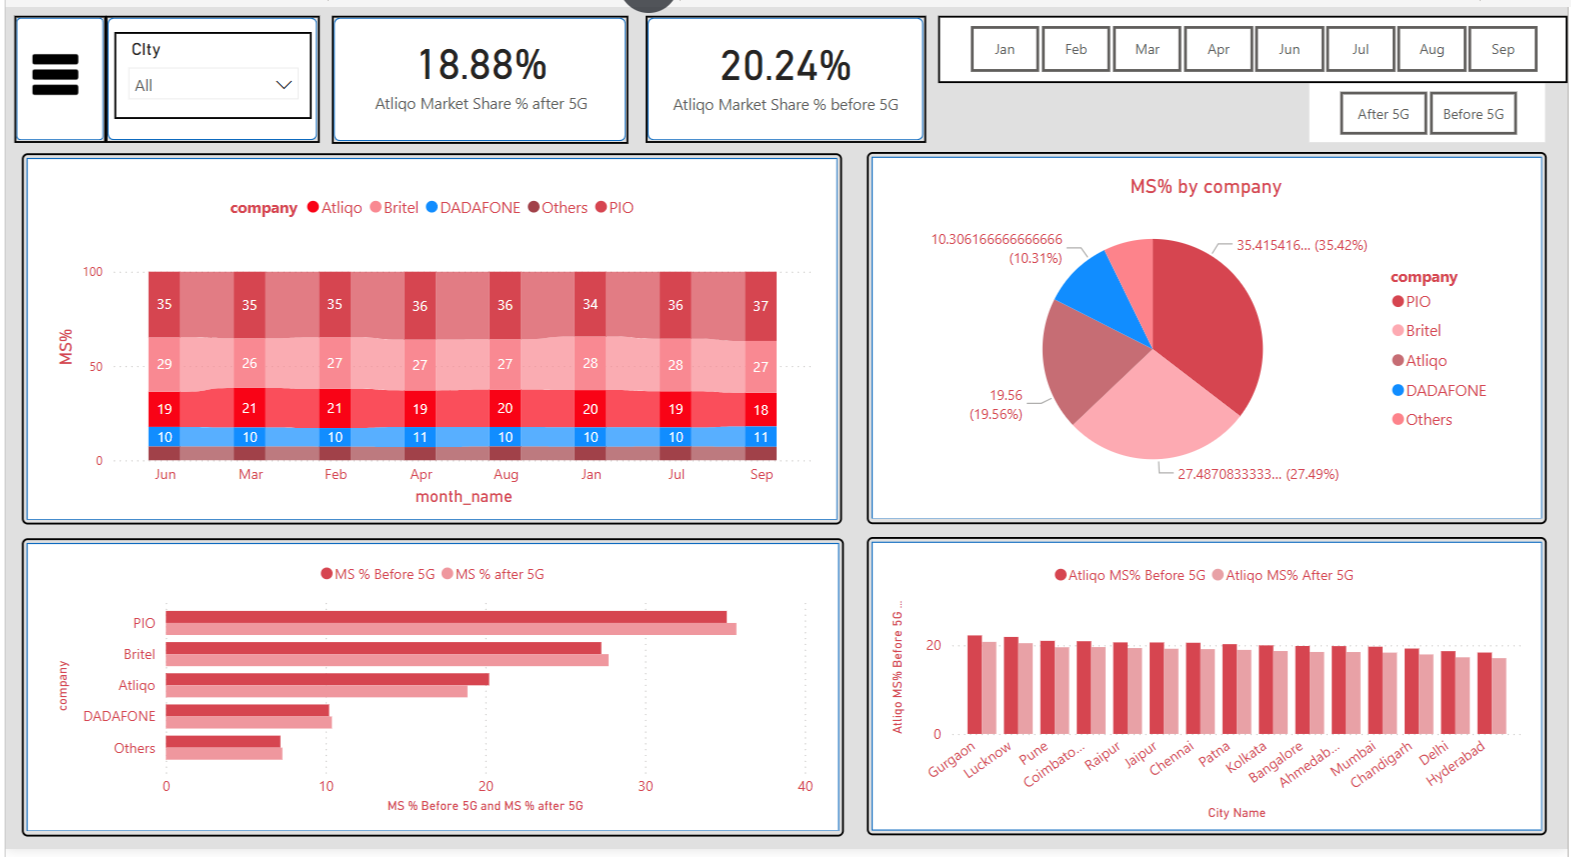

Layout of this report page (visuals, bound fields, positions):
{"tool":"powerbi","page":{"name":"MS %","canvas":[1336,720],"ordinal":2},"visuals":[{"type":"shape","box":[547.1,7.1,240,109],"z":0},{"type":"shape","box":[279.6,7.1,253.9,109.8],"z":1000},{"type":"shape","box":[85.9,7.2,183.3,108.8],"z":2000},{"type":"shape","box":[736.3,453.7,581.8,255.2],"z":3000},{"type":"shape","box":[14.3,454,703.2,254.9],"z":4000},{"type":"shape","box":[736.3,124.4,581.8,318.4],"z":5000},{"type":"shape","box":[14.3,124.6,701.8,318],"z":6000},{"type":"ribbonChart","fields":{"Y":["Key Measures.MS%"],"Series":["fact_market_share.company"],"Category":["Dim_date.month_name"]},"box":[38.7,150.4,657.4,280.7],"z":7000},{"type":"pieChart","fields":{"Y":["Key Measures.MS%"],"Category":["fact_market_share.company"]},"box":[773.3,143.6,507.7,279.9],"z":8000},{"type":"clusteredBarChart","fields":{"Category":["fact_market_share.company"],"Y":["Key Measures.MS % Before 5G","Key Measures.MS % after 5G"]},"box":[38.7,465.5,657.4,229.2],"z":9000},{"type":"clusteredColumnChart","fields":{"Y":["Key Measures.Atliqo MS% Before 5G","Key Measures.Atliqo MS% After 5G"],"Category":["City_Name.City Name"]},"box":[752.7,466.1,548.9,234.7],"z":10000},{"type":"card","fields":{"Values":["Key Measures.Atliqo Market Share % before 5G"]},"box":[562.2,8.5,209.9,93.3],"z":11000},{"type":"card","fields":{"Values":["Key Measures.Atliqo Market Share % after 5G"]},"box":[294.6,15.3,223.7,79.6],"z":12000},{"type":"slicer","fields":{"Values":["City_Name.City Name"]},"box":[93.1,21.5,169,74.5],"z":13000},{"type":"slicer","fields":{"Values":["Dim_date.before/after_5g"]},"box":[1115.2,64.7,201.7,50.8],"z":14000},{"type":"shape","box":[7.2,7.2,78.8,109],"z":15000},{"type":"image","box":[18.6,24.4,48.7,65.9],"z":16000},{"type":"slicer","fields":{"Values":["Dim_date.month_name"]},"box":[797.8,7.2,538.5,57.3],"z":17000}]}

Visuals, with their boxes in screenshot pixels (x1, y1, x2, y2), scaled from the page's 1336x720 canvas onto the 1571x857 screenshot:
shape: <bbox>643, 8, 926, 138</bbox>
shape: <bbox>329, 8, 627, 139</bbox>
shape: <bbox>101, 9, 317, 138</bbox>
shape: <bbox>866, 540, 1550, 844</bbox>
shape: <bbox>17, 540, 844, 844</bbox>
shape: <bbox>866, 148, 1550, 527</bbox>
shape: <bbox>17, 148, 842, 527</bbox>
ribbonChart - Key Measures.MS% x fact_market_share.company: <bbox>46, 179, 819, 513</bbox>
pieChart - Key Measures.MS% x fact_market_share.company: <bbox>909, 171, 1506, 504</bbox>
clusteredBarChart - fact_market_share.company x Key Measures.MS % Before 5G: <bbox>46, 554, 819, 827</bbox>
clusteredColumnChart - Key Measures.Atliqo MS% Before 5G x Key Measures.Atliqo MS% After 5G: <bbox>885, 555, 1531, 834</bbox>
card - Key Measures.Atliqo Market Share % before 5G: <bbox>661, 10, 908, 121</bbox>
card - Key Measures.Atliqo Market Share % after 5G: <bbox>346, 18, 609, 113</bbox>
slicer - City_Name.City Name: <bbox>109, 26, 308, 114</bbox>
slicer - Dim_date.before/after_5g: <bbox>1311, 77, 1549, 137</bbox>
shape: <bbox>8, 9, 101, 138</bbox>
image: <bbox>22, 29, 79, 107</bbox>
slicer - Dim_date.month_name: <bbox>938, 9, 1570, 77</bbox>
